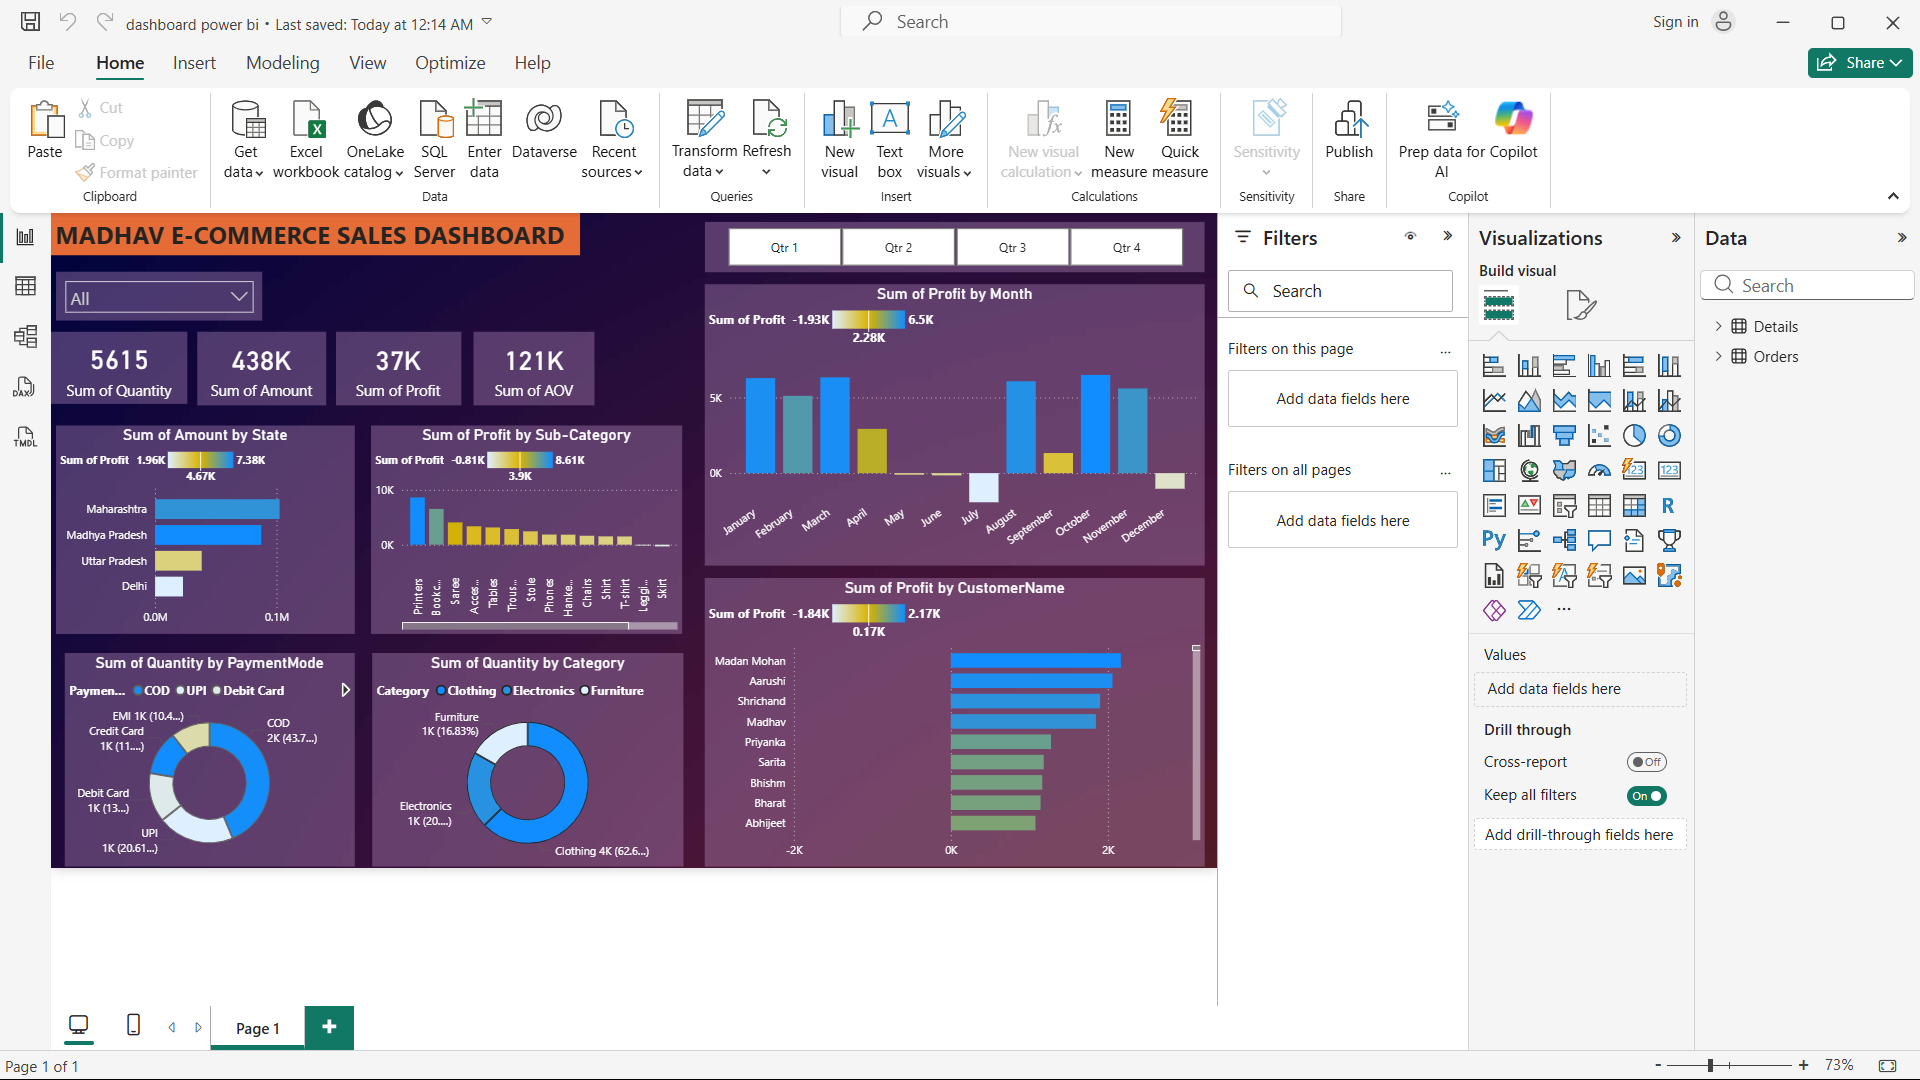

The page's visual inventory and layout, read from the dashboard file:
{"tool":"powerbi","page":{"name":"Page 1","canvas":[1280,720],"ordinal":0},"visuals":[{"type":"textbox","box":[0,0,580.4,46.7],"z":0},{"type":"columnChart","fields":{"Category":["Orders.Order Date.Variation.Date Hierarchy.Month"],"Y":["Sum(Details.Profit)"]},"box":[717.7,78.2,548.9,308.7],"z":1},{"type":"barChart","fields":{"Category":["Orders.CustomerName"],"Y":["Sum(Details.Profit)"]},"box":[717.7,400.7,548.9,317],"z":2},{"type":"donutChart","fields":{"Y":["Sum(Details.Quantity)"],"Category":["Details.Category"]},"box":[352.7,483,341.7,234.6],"z":4},{"type":"donutChart","fields":{"Y":["Sum(Details.Quantity)"],"Category":["Details.PaymentMode"]},"box":[15.1,483,318.4,234.6],"z":5},{"type":"card","fields":{"Values":["Sum(Details.Quantity)"]},"box":[0,130.4,149.6,79.6],"z":6},{"type":"card","fields":{"Values":["Sum(Details.Amount)"]},"box":[160.5,130.4,141.3,81],"z":7},{"type":"card","fields":{"Values":["Sum(Details.Profit)"]},"box":[312.9,130.4,137.2,81],"z":8},{"type":"card","fields":{"Values":["Sum(Details.AOV)"]},"box":[463.8,130.4,133.1,81],"z":9},{"type":"barChart","fields":{"Category":["Orders.State"],"Y":["Sum(Details.Amount)"]},"box":[5.5,233.3,328,229.2],"z":10},{"type":"columnChart","fields":{"Y":["Sum(Details.Profit)"],"Category":["Details.Sub-Category"]},"box":[351.3,233.3,341.7,229.2],"z":11},{"type":"slicer","fields":{"Values":["Orders.Order Date.Variation.Date Hierarchy.Quarter"]},"box":[717.7,9.6,548.9,54.9],"z":12},{"type":"slicer","fields":{"Values":["Orders.State"]},"box":[5.5,64.5,226.4,53.5],"z":13}]}

Visuals, with their boxes on the page's 1280x720 design canvas (x1, y1, x2, y2). These are canvas units, not pixel positions in the 1920x1080 screenshot, which may show the page scaled, cropped or inside an application window:
textbox: crop(0, 0, 580, 47)
columnChart - Orders.Order Date.Variation.Date Hierarchy.Month x Sum(Details.Profit): crop(718, 78, 1267, 387)
barChart - Orders.CustomerName x Sum(Details.Profit): crop(718, 401, 1267, 718)
donutChart - Sum(Details.Quantity) x Details.Category: crop(353, 483, 694, 718)
donutChart - Sum(Details.Quantity) x Details.PaymentMode: crop(15, 483, 334, 718)
card - Sum(Details.Quantity): crop(0, 130, 150, 210)
card - Sum(Details.Amount): crop(160, 130, 302, 211)
card - Sum(Details.Profit): crop(313, 130, 450, 211)
card - Sum(Details.AOV): crop(464, 130, 597, 211)
barChart - Orders.State x Sum(Details.Amount): crop(6, 233, 334, 462)
columnChart - Sum(Details.Profit) x Details.Sub-Category: crop(351, 233, 693, 462)
slicer - Orders.Order Date.Variation.Date Hierarchy.Quarter: crop(718, 10, 1267, 64)
slicer - Orders.State: crop(6, 64, 232, 118)
